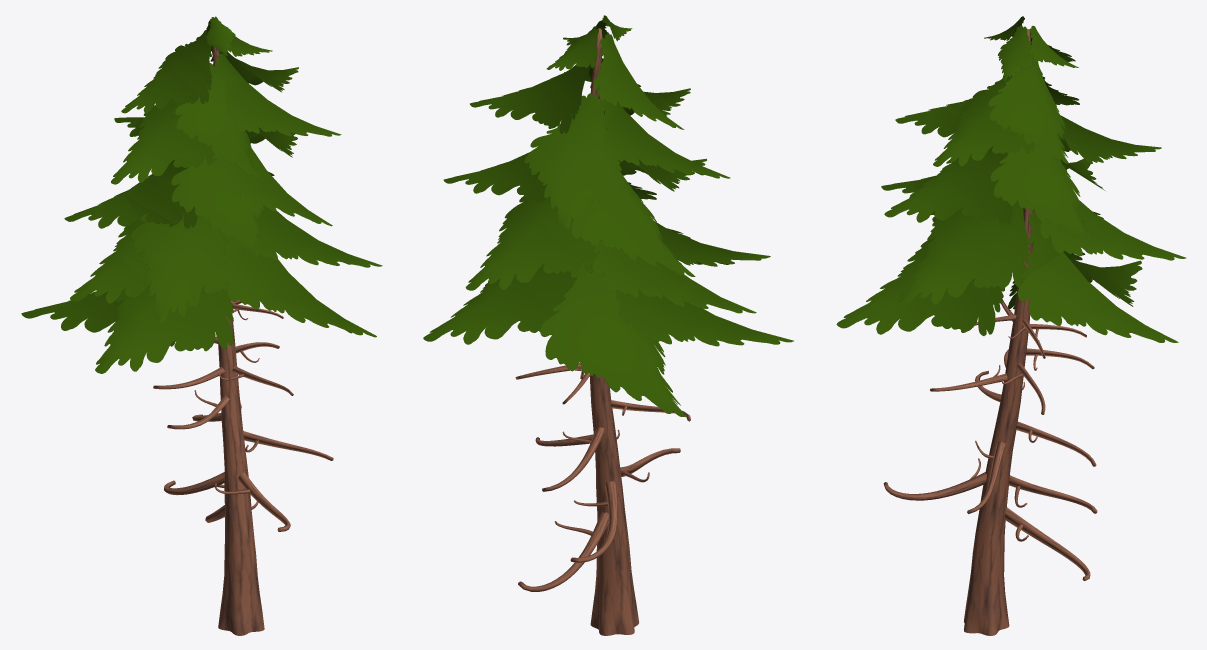
File: nature-kit.glb
3 renders of one model, left to right at view 1: azimuth 30°, elevation 25°; view 2: azimuth 150°, elevation 25°; view 3: azimuth 270°, elevation 25°, orthographic. The views are drawn at different scales.
Visible parts, largest first — view 1: Pine_3; view 2: Pine_3; view 3: Pine_3.
Boxes of the visible parts, x1,y1,x2,y2 form: Pine_3: (21,16,382,635); Pine_3: (423,15,793,635); Pine_3: (836,16,1186,635).
Bounding box in the file's own units: 3.61 × 7.39 × 4.
2 materials, 2 textured.
